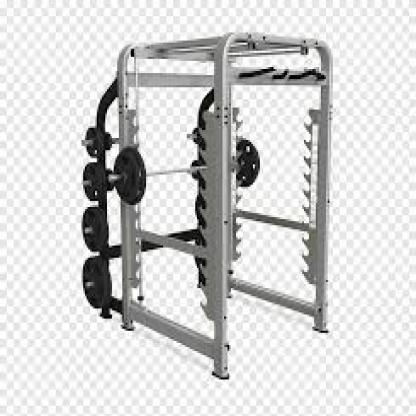smith machine: (82, 30, 335, 381)
